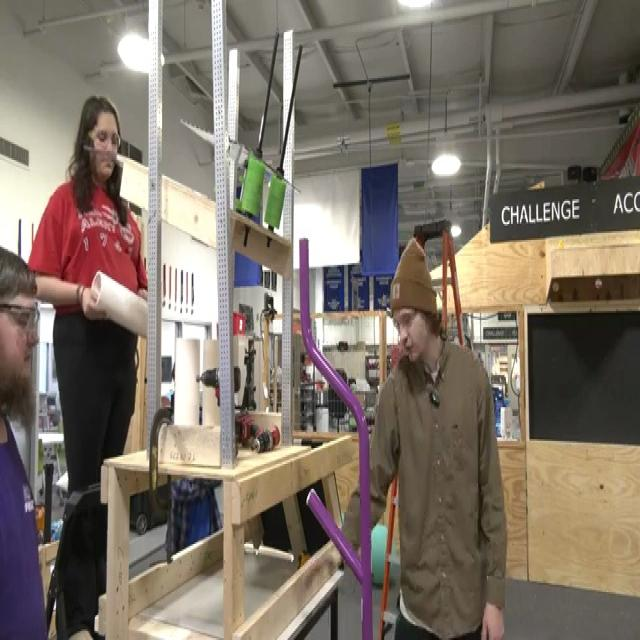Coral: (88, 266, 148, 338), (176, 337, 200, 425), (203, 340, 220, 428)
